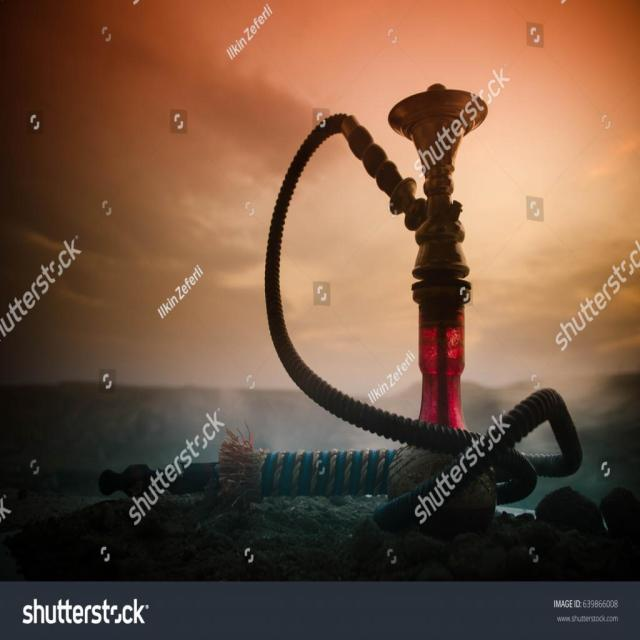smoking: (19, 72, 596, 627)
